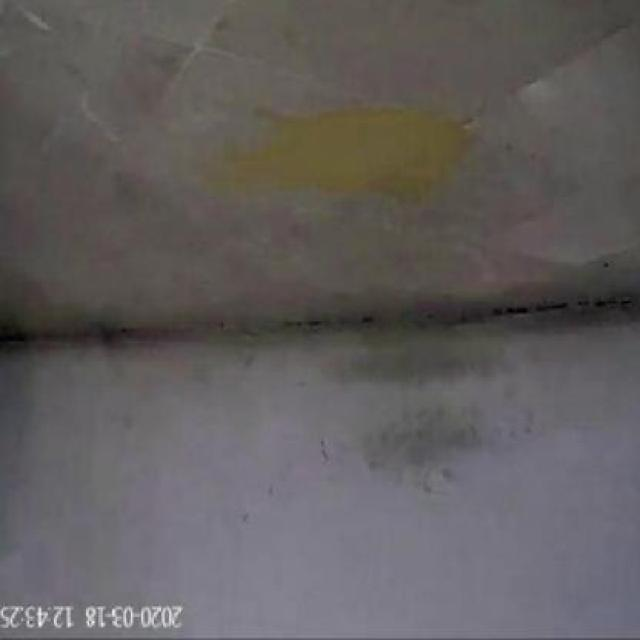spillage: (188, 102, 477, 199)
